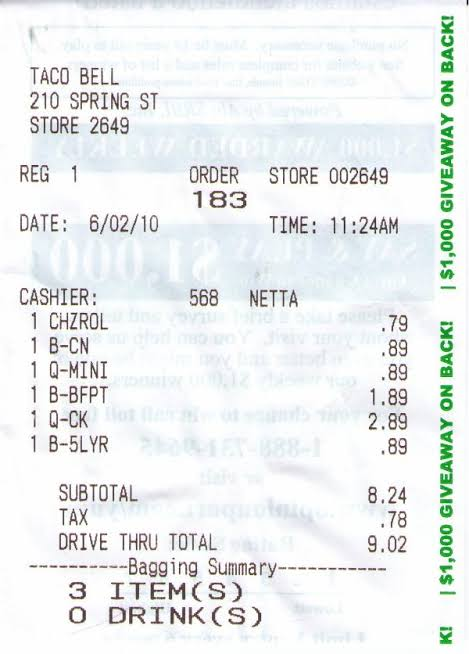Taco Bell: (26, 58, 125, 91)
